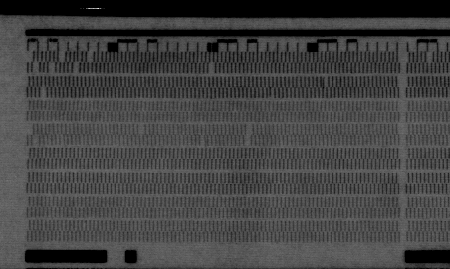Broken hole: (24, 49, 41, 73), (24, 125, 41, 148), (243, 122, 255, 148), (135, 123, 147, 137), (206, 61, 217, 75), (424, 52, 435, 65), (84, 50, 94, 63), (47, 61, 56, 75), (57, 51, 67, 62), (72, 63, 83, 73), (38, 88, 49, 98)
Oblique printing: (319, 76, 332, 90), (265, 87, 277, 100), (198, 135, 209, 148)
